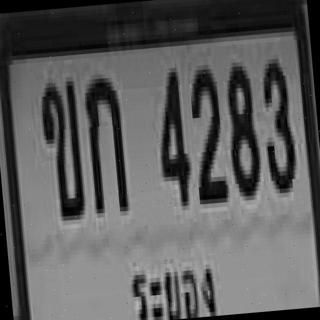A01: (79, 58, 136, 244)
A02: (32, 53, 96, 258)
N02: (181, 44, 235, 221)
N03: (253, 44, 305, 220)
N04: (147, 55, 199, 219)
N08: (222, 54, 268, 216)
P53: (118, 242, 260, 320)
